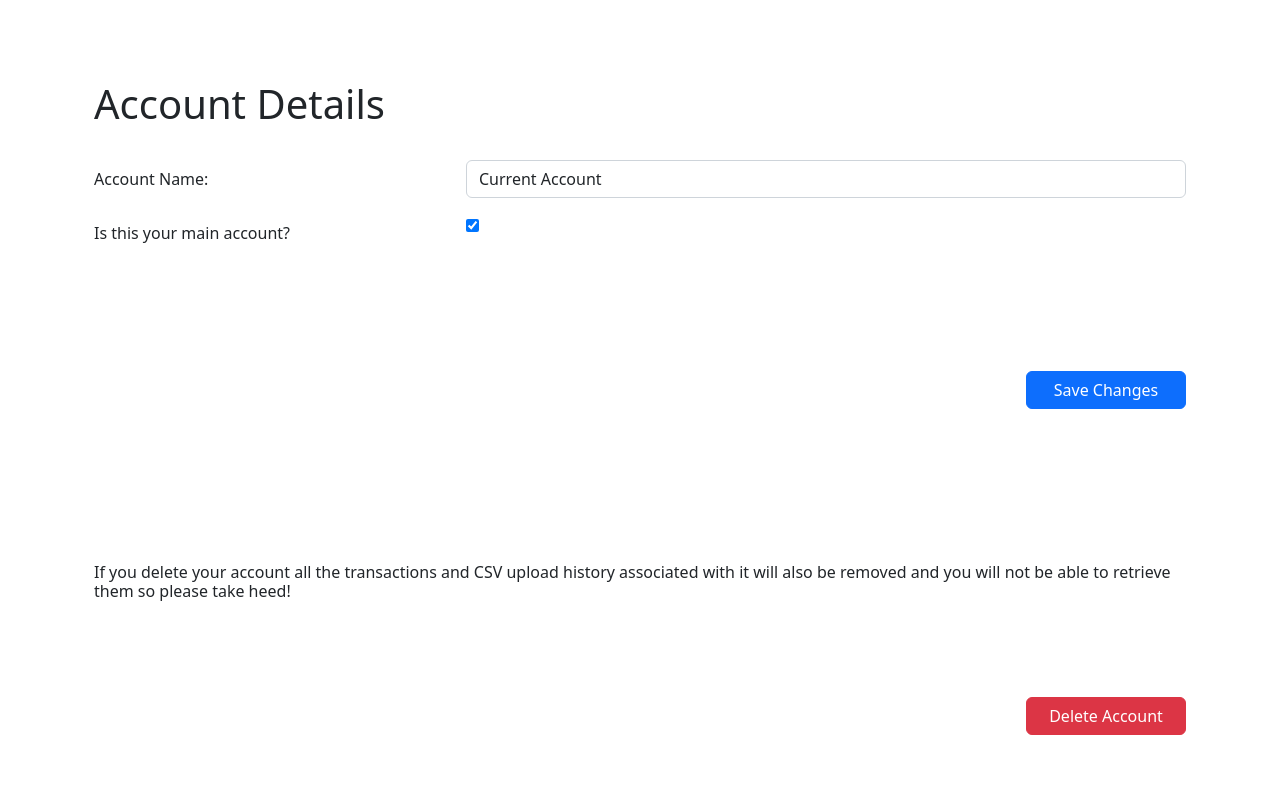
Test: clicking Delete Account opens a confirmation dialog without sending a request
Expected: the field showing "Current Account" is shown, [466,160,1186,198]
Click the button "Delete Account": (1106, 716) [1026,697,1186,735]
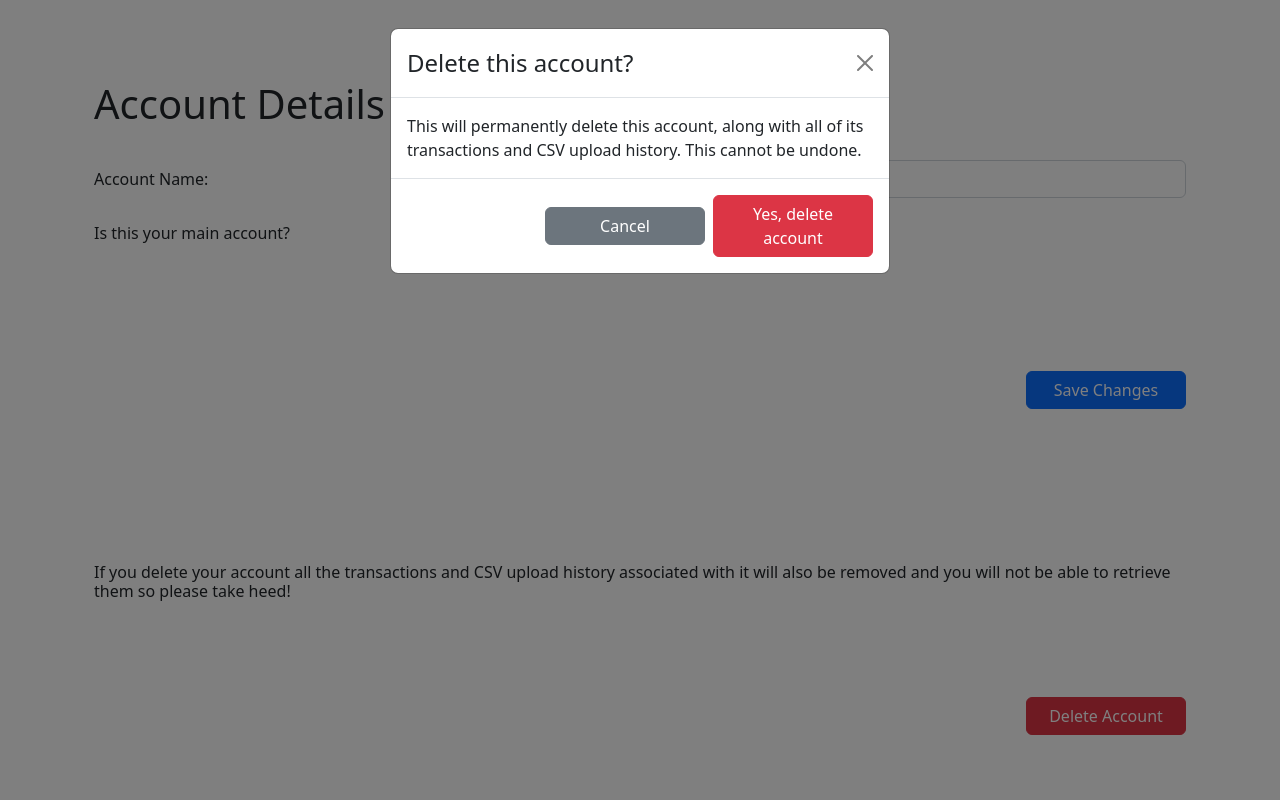
Result: the text "Delete this account?" is shown at [407,45,633,81]
